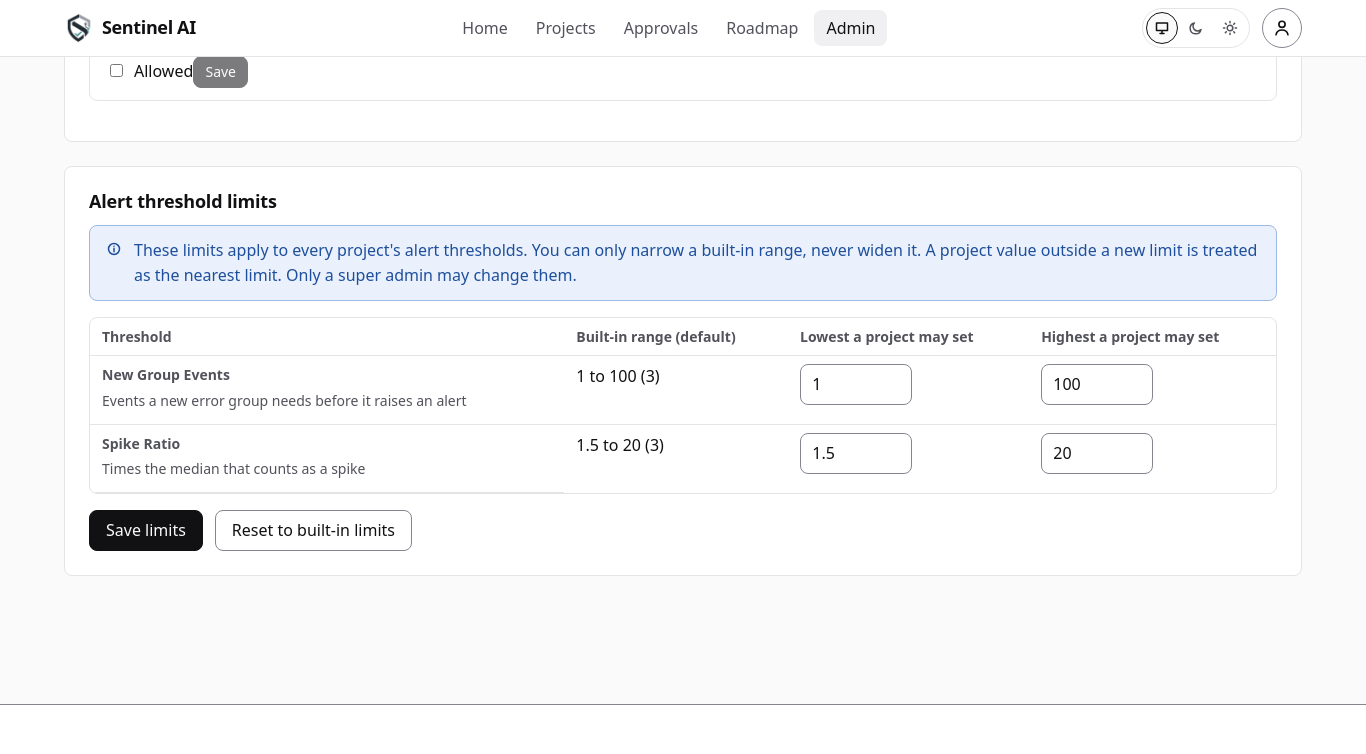
organization alert threshold limits (admin page) › saves every limit as numbers and confirms
(page scrolled)
Replace the text in the number field named "Lowest new group events" with "2" at (856,385), box [800,364,912,405]
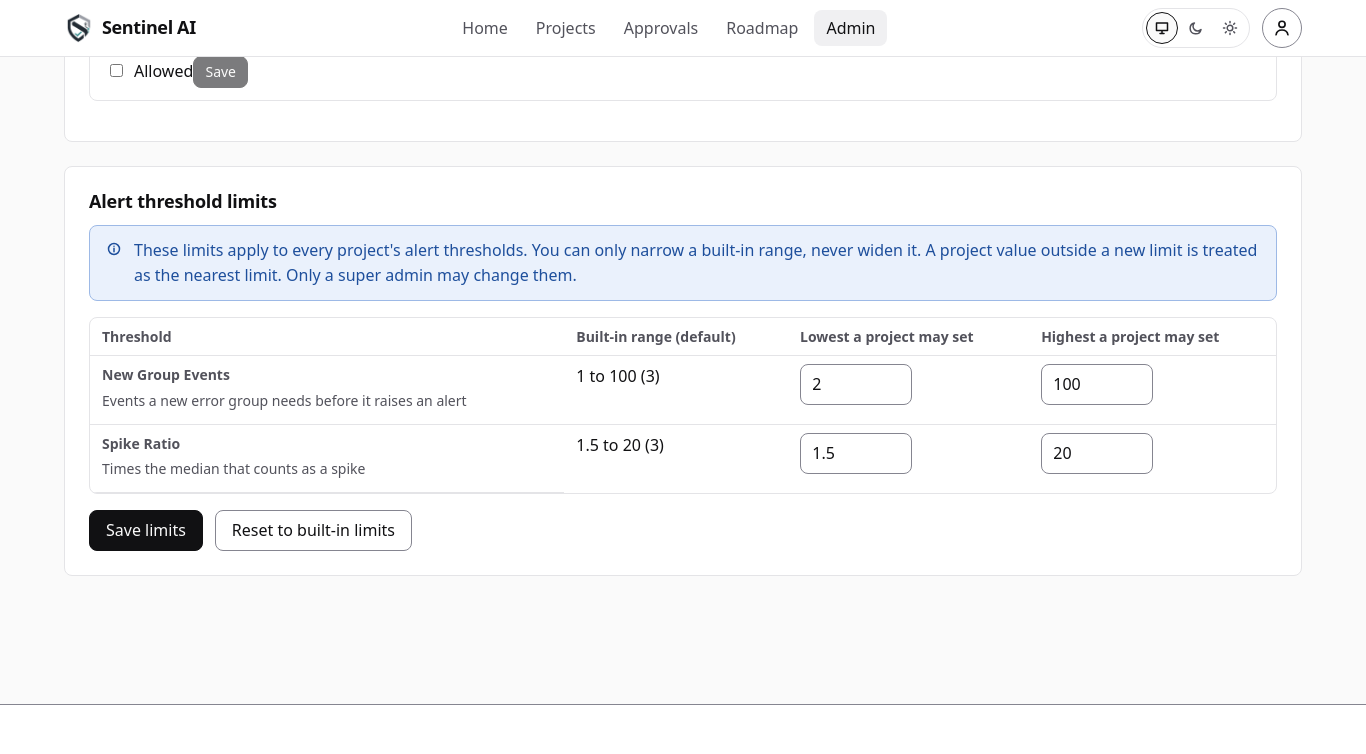
Replace the text in the number field named "Highest new group events" with "10" at (1097,385), box [1041,364,1153,405]
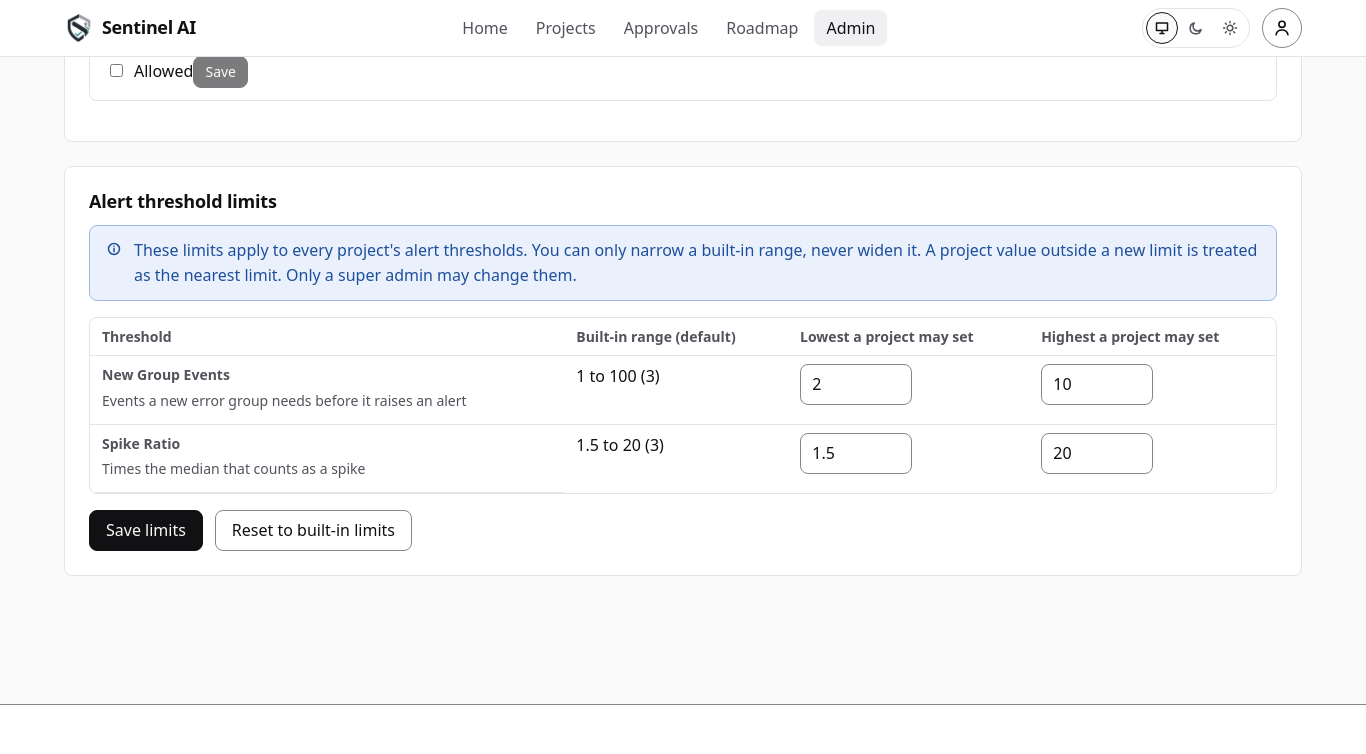
Click the button "Save limits" at (146,530), box [89,510,203,551]
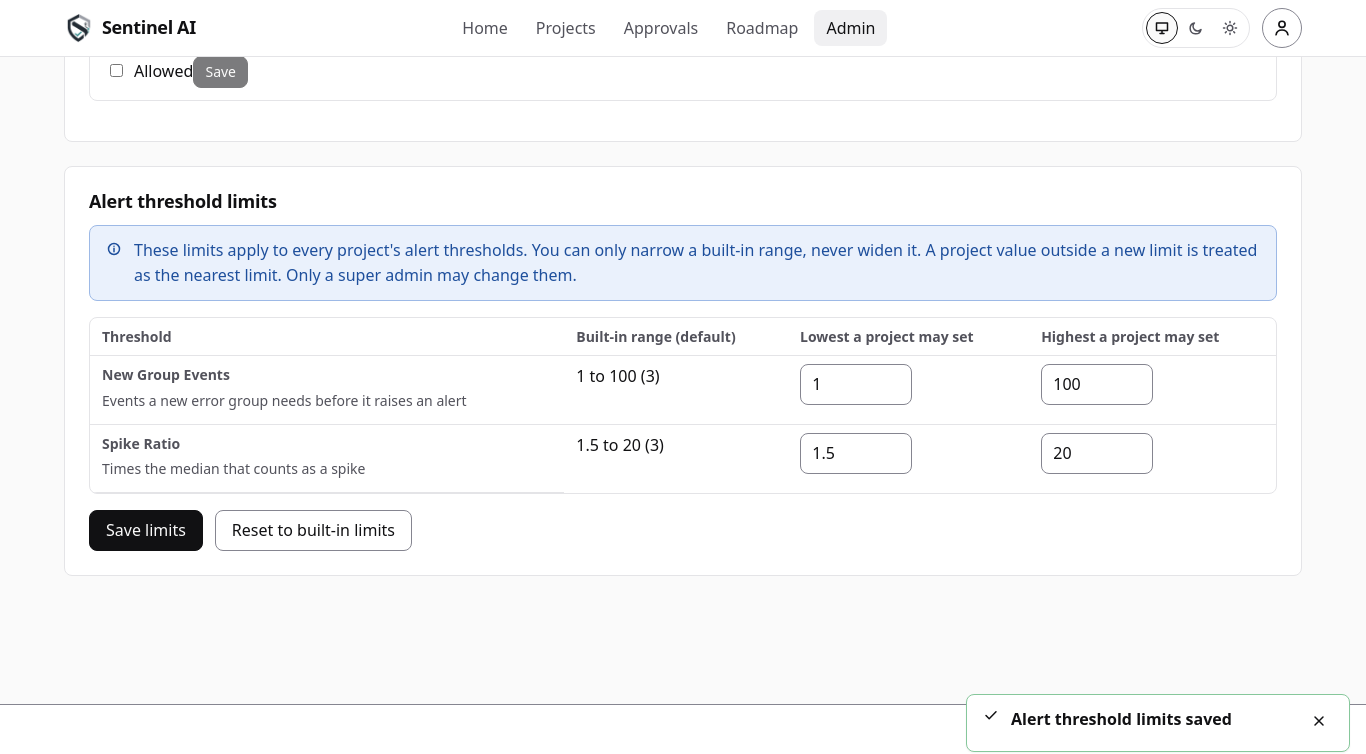
Expected: the text "Alert threshold limits saved" is shown, [1011,708,1232,730]
